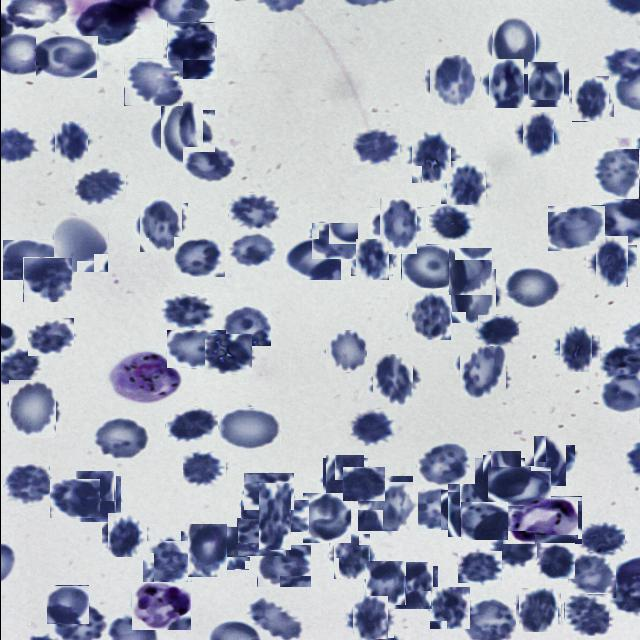red blood cell: (53, 216, 109, 272), (360, 478, 415, 534), (154, 104, 208, 158), (123, 58, 182, 106), (5, 382, 58, 435), (215, 407, 280, 449), (74, 2, 136, 46), (486, 18, 538, 70), (546, 205, 604, 251), (457, 344, 508, 396), (91, 415, 148, 461), (36, 36, 98, 78), (486, 466, 550, 506), (401, 244, 458, 288), (426, 58, 476, 108), (249, 491, 299, 541), (502, 267, 560, 310), (2, 240, 64, 280), (448, 272, 498, 321), (408, 486, 464, 529), (135, 200, 184, 249), (302, 493, 350, 543), (162, 35, 216, 79), (416, 442, 469, 486), (256, 544, 310, 587), (246, 597, 299, 640), (286, 238, 340, 280), (374, 202, 421, 250), (444, 486, 491, 534), (593, 149, 638, 199), (370, 356, 416, 404), (567, 552, 615, 598), (22, 257, 71, 302), (166, 331, 225, 368), (184, 527, 230, 574), (405, 293, 451, 339), (478, 454, 524, 500), (72, 474, 118, 520), (141, 540, 191, 582), (159, 293, 214, 331), (73, 165, 125, 205), (408, 134, 453, 180), (447, 249, 492, 295), (173, 237, 224, 277), (442, 164, 488, 208), (236, 518, 288, 556), (222, 305, 270, 346), (49, 479, 99, 518), (242, 472, 293, 510), (391, 564, 435, 608), (563, 593, 608, 636), (346, 408, 396, 446), (206, 526, 249, 570), (4, 464, 49, 506), (227, 193, 278, 230), (204, 334, 251, 374), (164, 407, 217, 442), (484, 62, 526, 106), (182, 147, 236, 181), (166, 23, 214, 61), (364, 562, 407, 604), (352, 128, 399, 166), (460, 502, 507, 540), (227, 230, 275, 267), (516, 588, 558, 630), (568, 78, 610, 120), (590, 240, 632, 282), (528, 440, 570, 482), (27, 318, 73, 356), (310, 222, 357, 259), (324, 457, 366, 498), (324, 331, 366, 372), (348, 599, 390, 640), (428, 588, 471, 628), (524, 64, 566, 104), (45, 585, 88, 624), (331, 536, 372, 576), (427, 204, 472, 240), (579, 519, 624, 555), (555, 328, 595, 368), (492, 531, 534, 567), (182, 452, 225, 487), (518, 116, 556, 155), (51, 123, 89, 161), (104, 516, 142, 554), (352, 240, 390, 278), (342, 467, 384, 501), (457, 551, 501, 583), (536, 543, 574, 579), (476, 314, 518, 346)
trophozoite: (502, 496, 581, 544), (108, 354, 177, 401), (131, 583, 190, 630)
